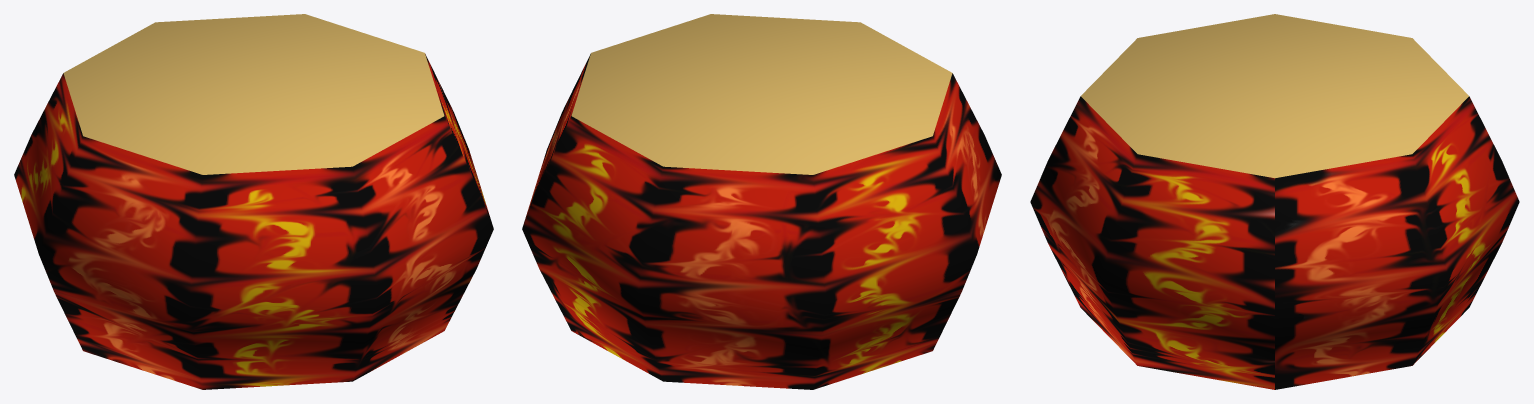
File: Drum.obj
The picture shows the model from 3 angles, left to right: view 1: azimuth 30°, elevation 25°; view 2: azimuth 150°, elevation 25°; view 3: azimuth 270°, elevation 25°; orthographic projection.
Visible parts, largest first — view 1: Cylinder; view 2: Cylinder; view 3: Cylinder.
Part boxes in pixels (left/top/right/bottom): Cylinder: left=14, top=14, right=493, bottom=389; Cylinder: left=522, top=14, right=1001, bottom=389; Cylinder: left=1030, top=14, right=1519, bottom=389.
Bounding box in the file's own units: 2.52 × 1.2 × 2.52.
